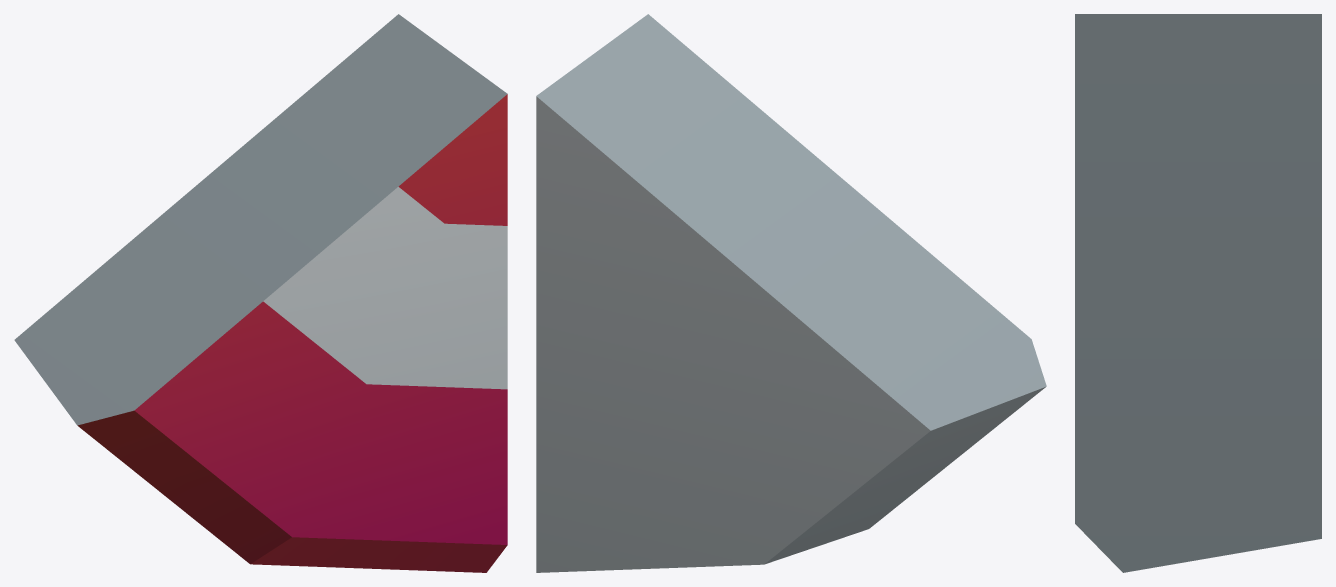
The model's file is target_pieces_D.glb.
The picture shows the model from 3 angles, left to right: view 1: azimuth 30°, elevation 25°; view 2: azimuth 150°, elevation 25°; view 3: azimuth 270°, elevation 25°; orthographic projection. The views are drawn at different scales.
Visible parts, largest first — view 1: target_pieces_D; view 2: target_pieces_D; view 3: target_pieces_D.
Part boxes in pixels (<box>): target_pieces_D: <box>14,14,507,572</box>; target_pieces_D: <box>536,14,1046,572</box>; target_pieces_D: <box>1075,14,1321,572</box>.
Bounding box in the file's own units: 0.433 × 0.5 × 0.2.
Materials: 1 (1 with a texture image).
